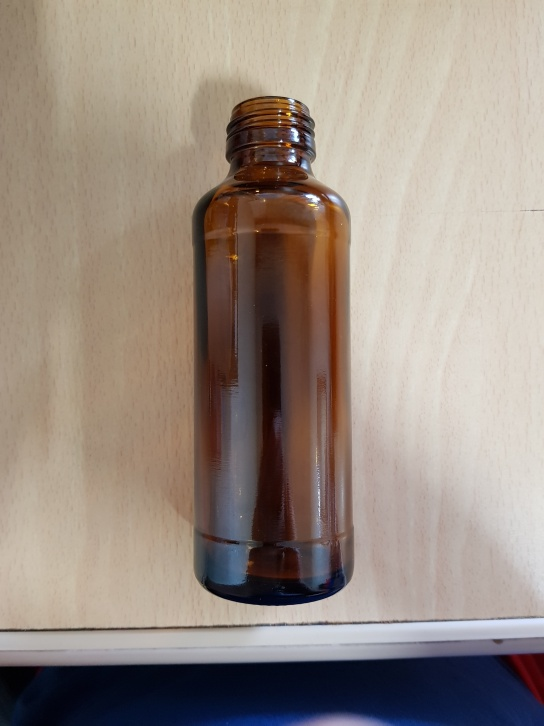Glass: (185, 93, 358, 607)
